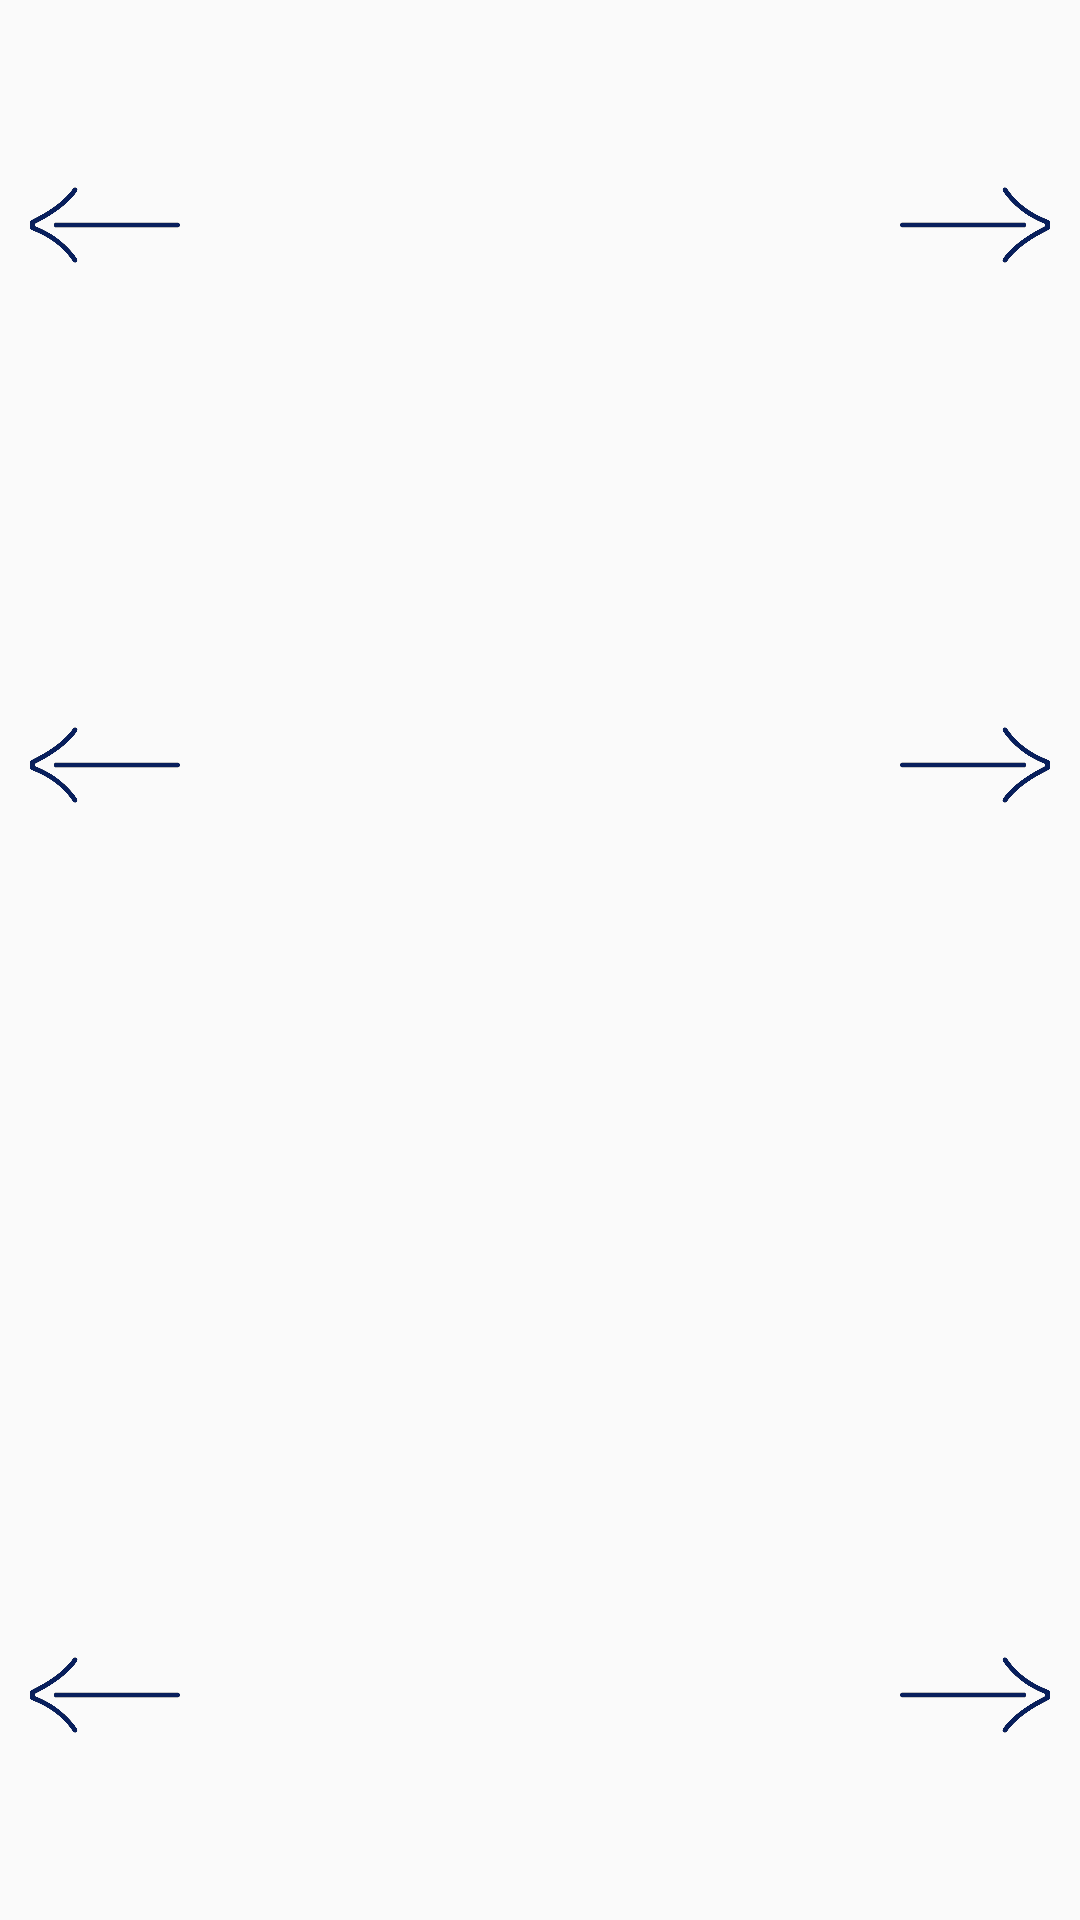

Named icons in this screenshot (1080*1920) and their bounding boxes, [x1=x1, y1=y1, x2=x2, y2=y2]:
arrowleft: [x1=30, y1=187, x2=180, y2=263], [x1=30, y1=727, x2=180, y2=803], [x1=30, y1=1657, x2=180, y2=1733]
arrowright: [x1=900, y1=187, x2=1050, y2=263], [x1=900, y1=727, x2=1050, y2=803], [x1=900, y1=1657, x2=1050, y2=1733]
